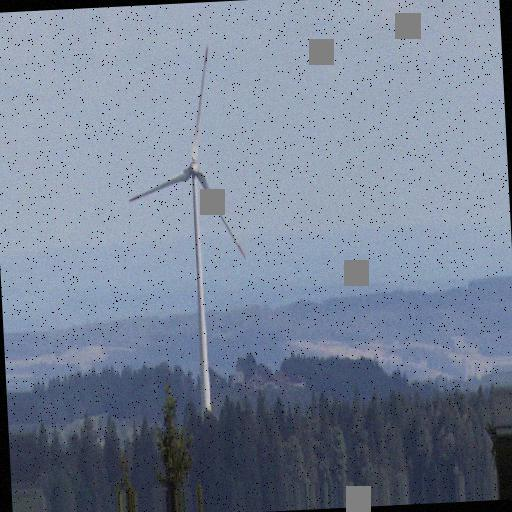wind turbine: (127, 47, 248, 409)
